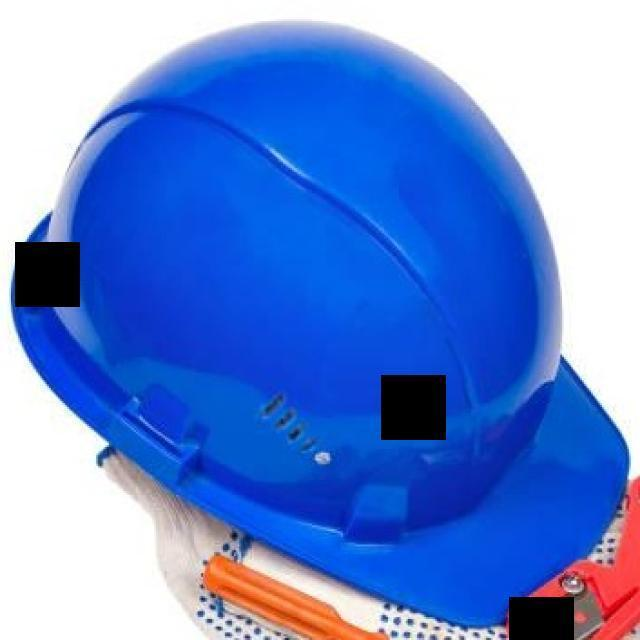blue helmet: (3, 14, 636, 627)
